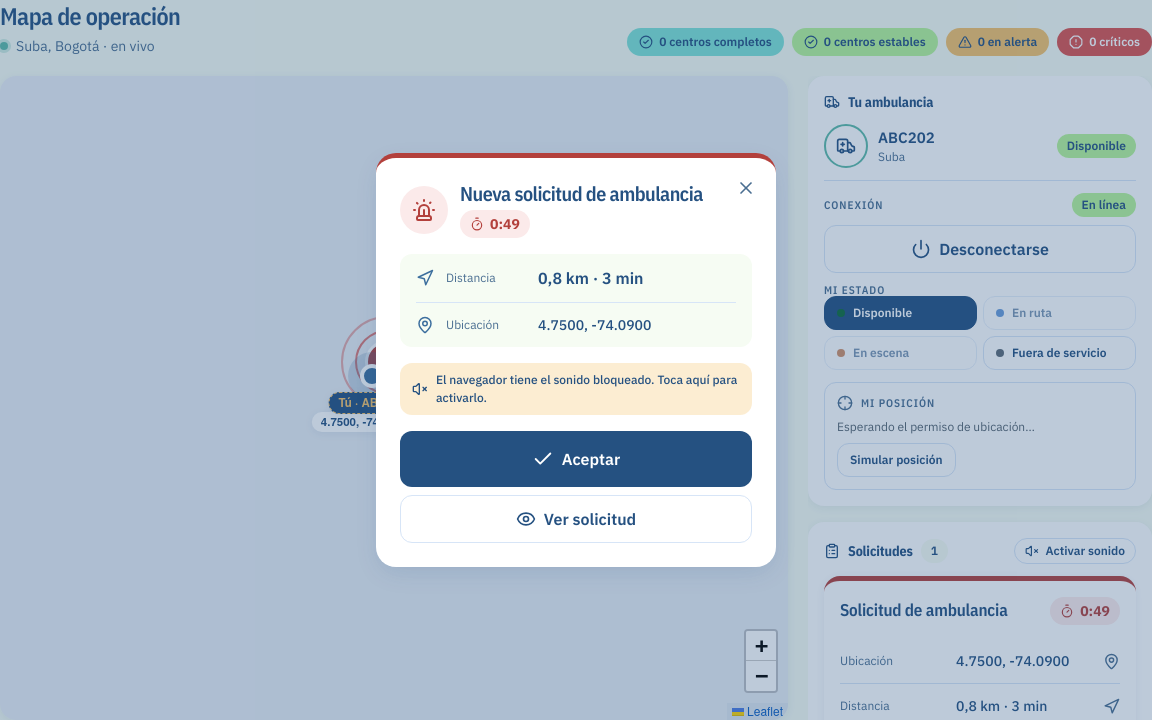
Test: DriverConsolePage connection off demo mode › "Fuera de servicio" is a REST command: the server stops sending requests
This screenshot has width=1152, height=720.
Click the button "Fuera de servicio" at (1060, 353), box left=983, top=336, right=1136, bottom=370
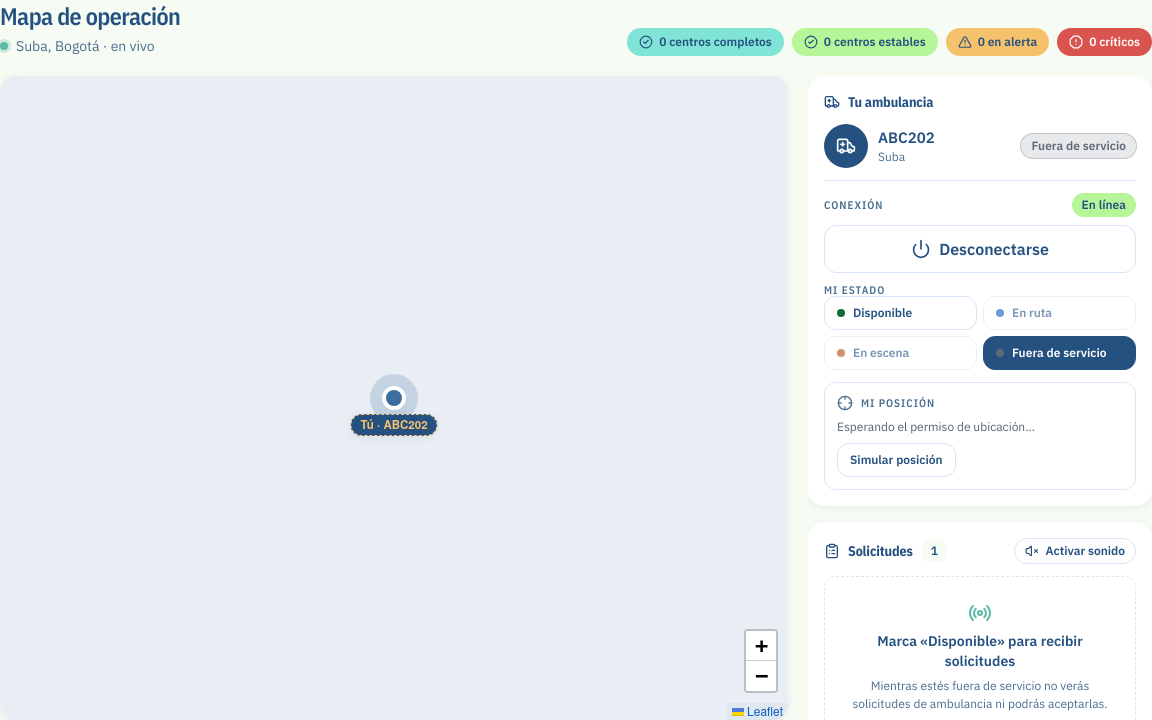
Expected: the text "En línea" is shown, left=1072, top=193, right=1136, bottom=217
Now the heading "Solicitud de ambulancia" is gone
Now the text "Marca «Disponible» para recibir solicitudes" is shown, box left=877, top=632, right=1083, bottom=670
